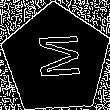M_W: (30, 35, 81, 84)
